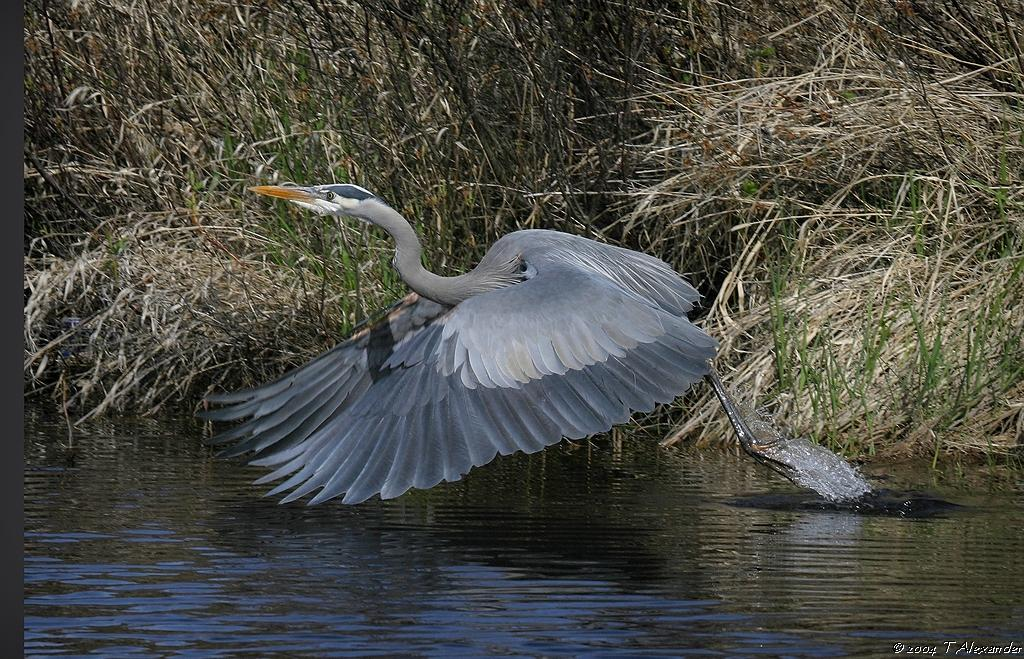heron: (191, 160, 880, 528)
